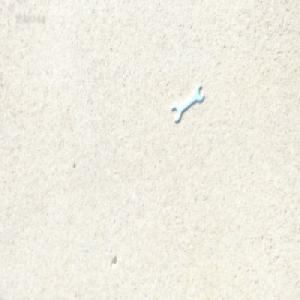Wrench: (171, 85, 202, 122)
